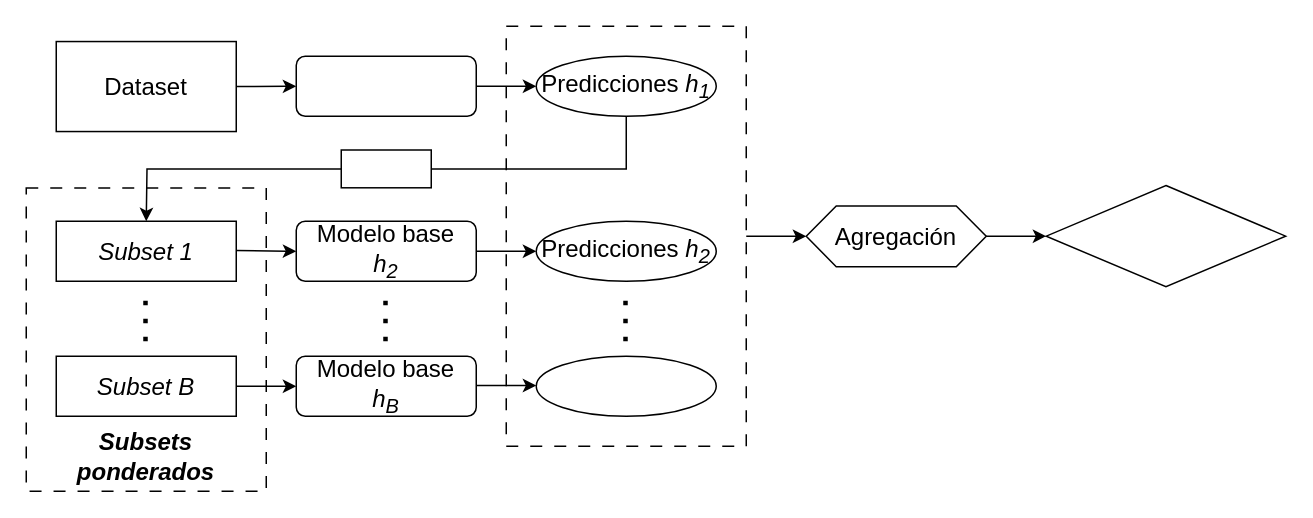
Some shapes in this 1313 by 518 pixel diagram are drawn without their labels. Each missing label, with the centre of its shape:
"Modelo base h 1" belongs at (385,85).
"Predicciones h K" belongs at (625,385).
"Predicción final" belongs at (1165,235).
"Test" belongs at (385,168).
